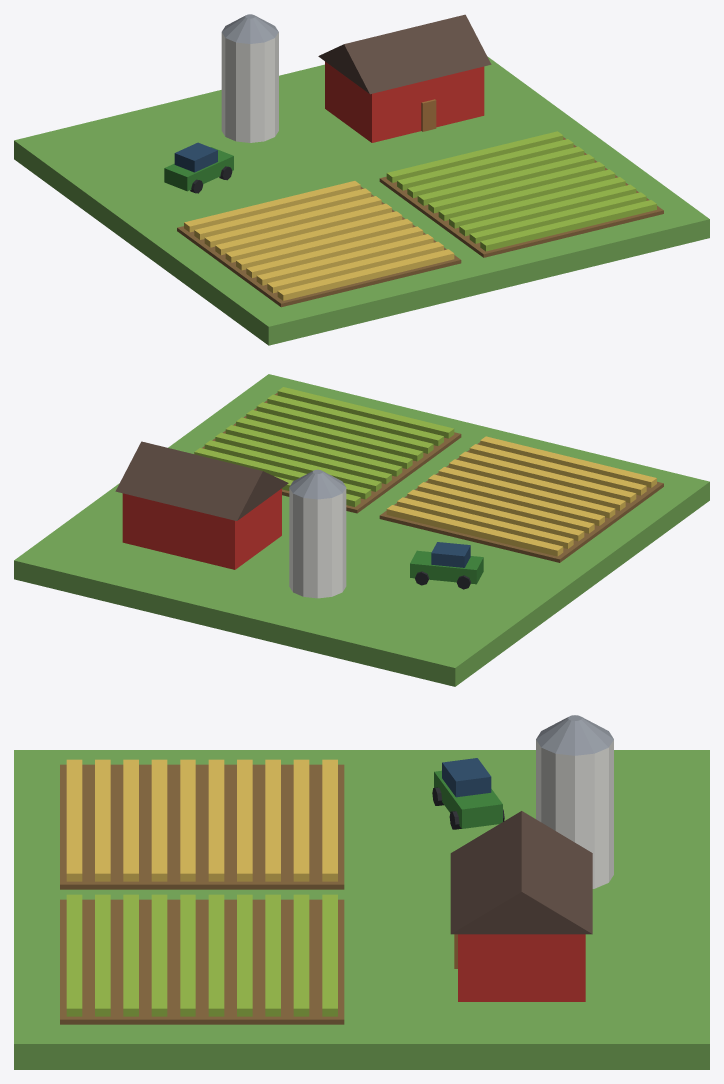
File: agro_rent_2.glb
3 views of the same model, one above another, from view 1: azimuth 30°, elevation 25°; view 2: azimuth 150°, elevation 25°; view 3: azimuth 270°, elevation 25° (orthographic). The views are drawn at different scales.
Visible parts, largest first — view 1: agro_rent_2; view 2: agro_rent_2; view 3: agro_rent_2.
Boxes of the visible parts, x1,y1,x2,y2 form: agro_rent_2: (14, 14, 709, 345); agro_rent_2: (14, 374, 709, 686); agro_rent_2: (14, 715, 709, 1069).
Bounding box in the file's own units: 1.96 × 0.566 × 1.96.
